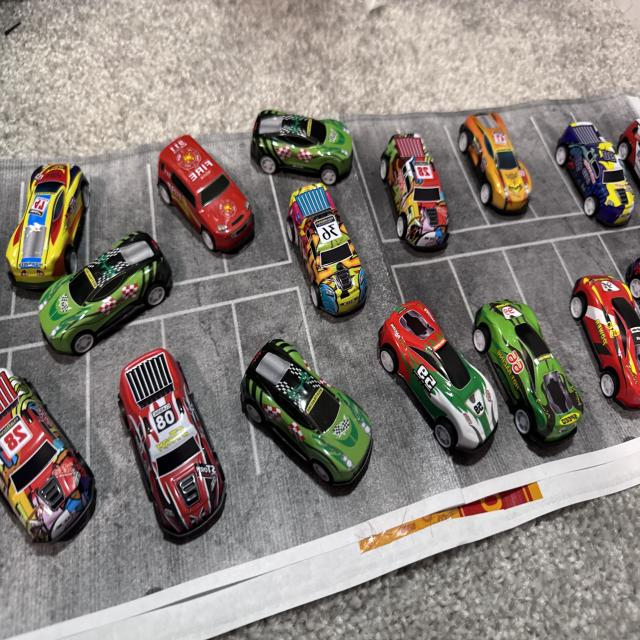car: (86, 361, 262, 578), (222, 328, 360, 491), (475, 270, 595, 446), (372, 280, 500, 439), (0, 348, 96, 540), (294, 191, 382, 353), (8, 162, 116, 286), (452, 116, 542, 252), (562, 266, 640, 402), (65, 218, 157, 330), (159, 134, 254, 242), (476, 292, 546, 428), (242, 95, 356, 177), (552, 127, 618, 225), (377, 132, 430, 238)
